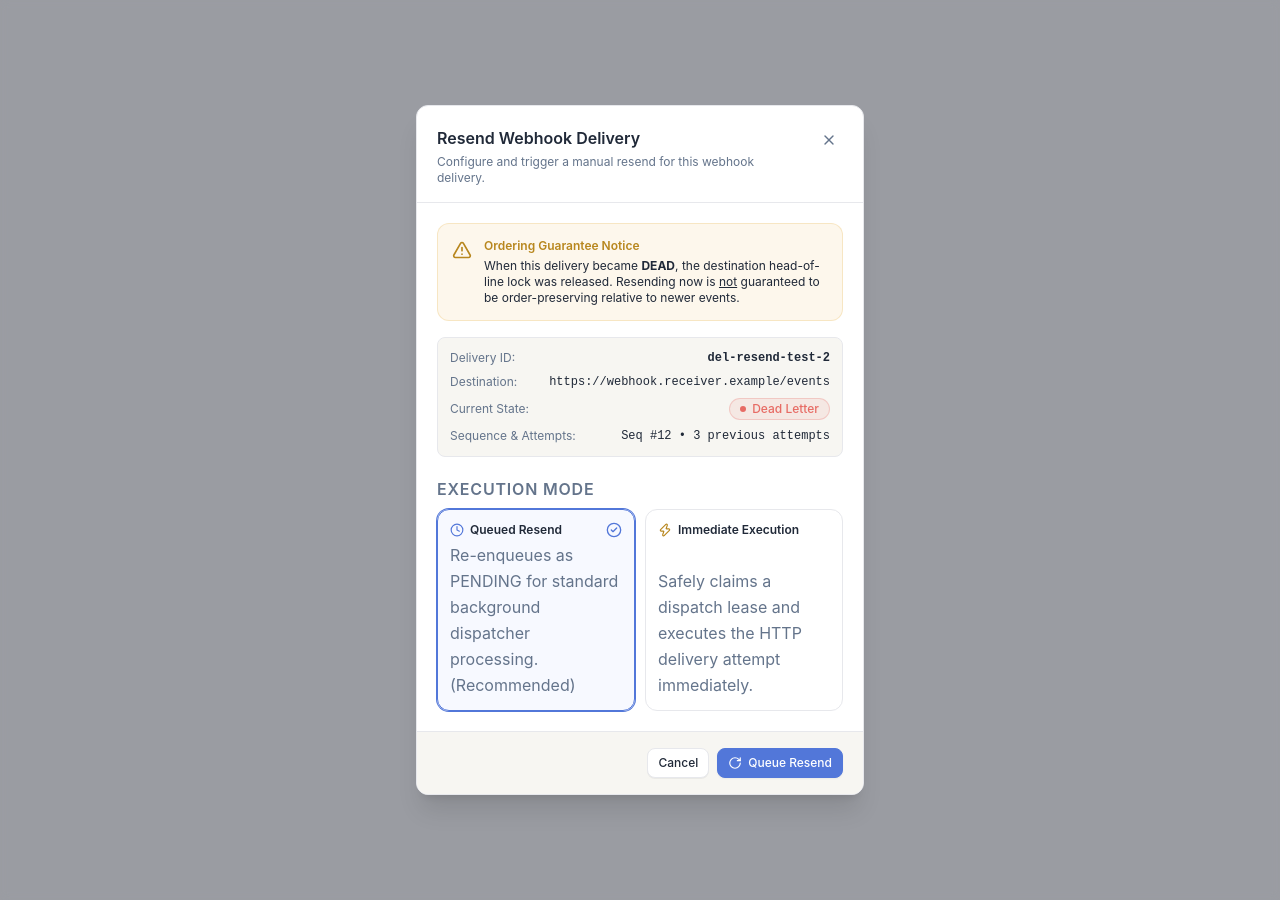
Test case: Tanvi's Phase 2 Task: Delivery Inspector & Resend Flow (Frontend) › 3. ResendModal: State Notices & Execution Modes › submits immediate resend with immediate: true
Click the button with test id "resend-mode-immediate" at [744, 610], box [645, 509, 843, 711]
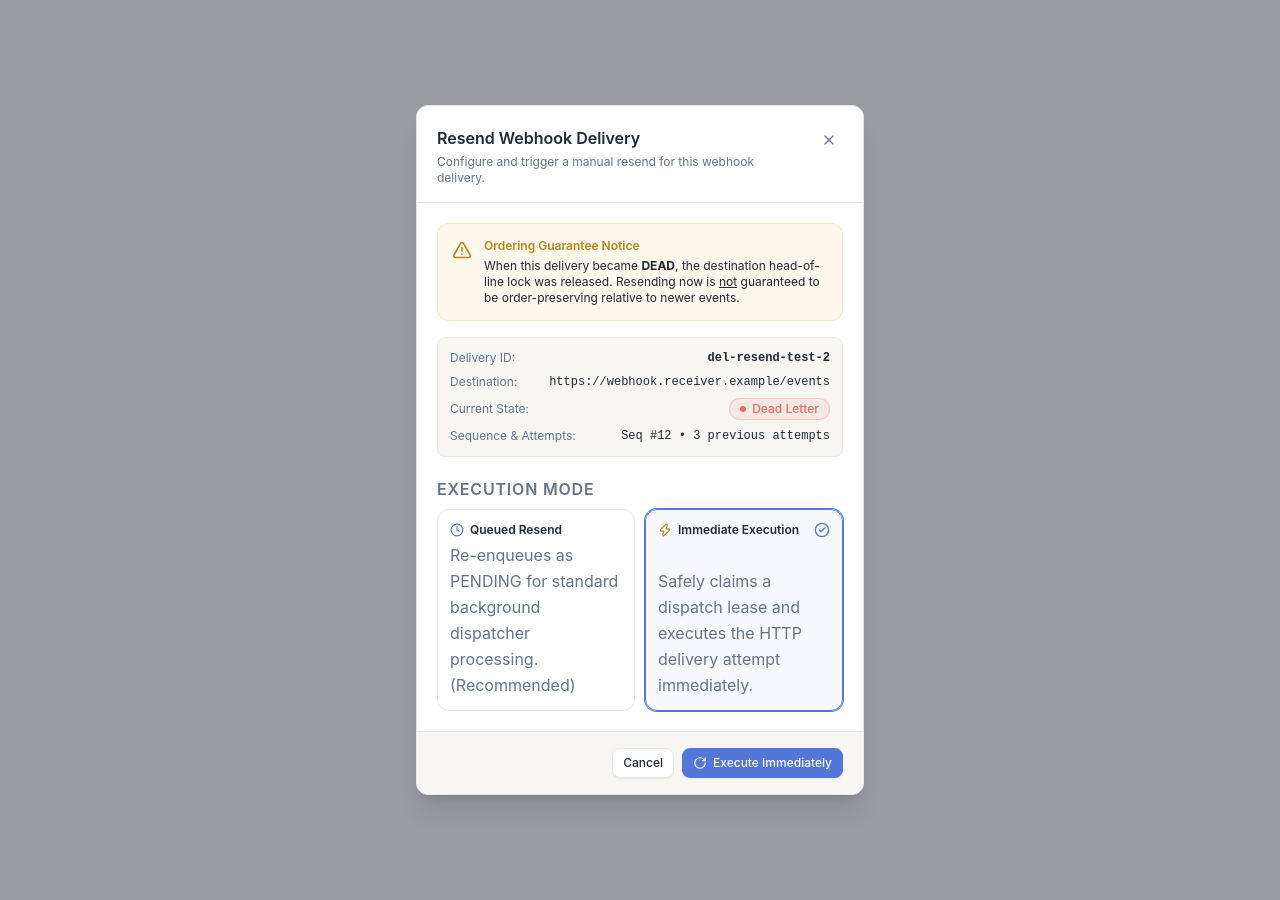
Click the button "Execute Immediately" at [762, 763], box [682, 748, 843, 778]
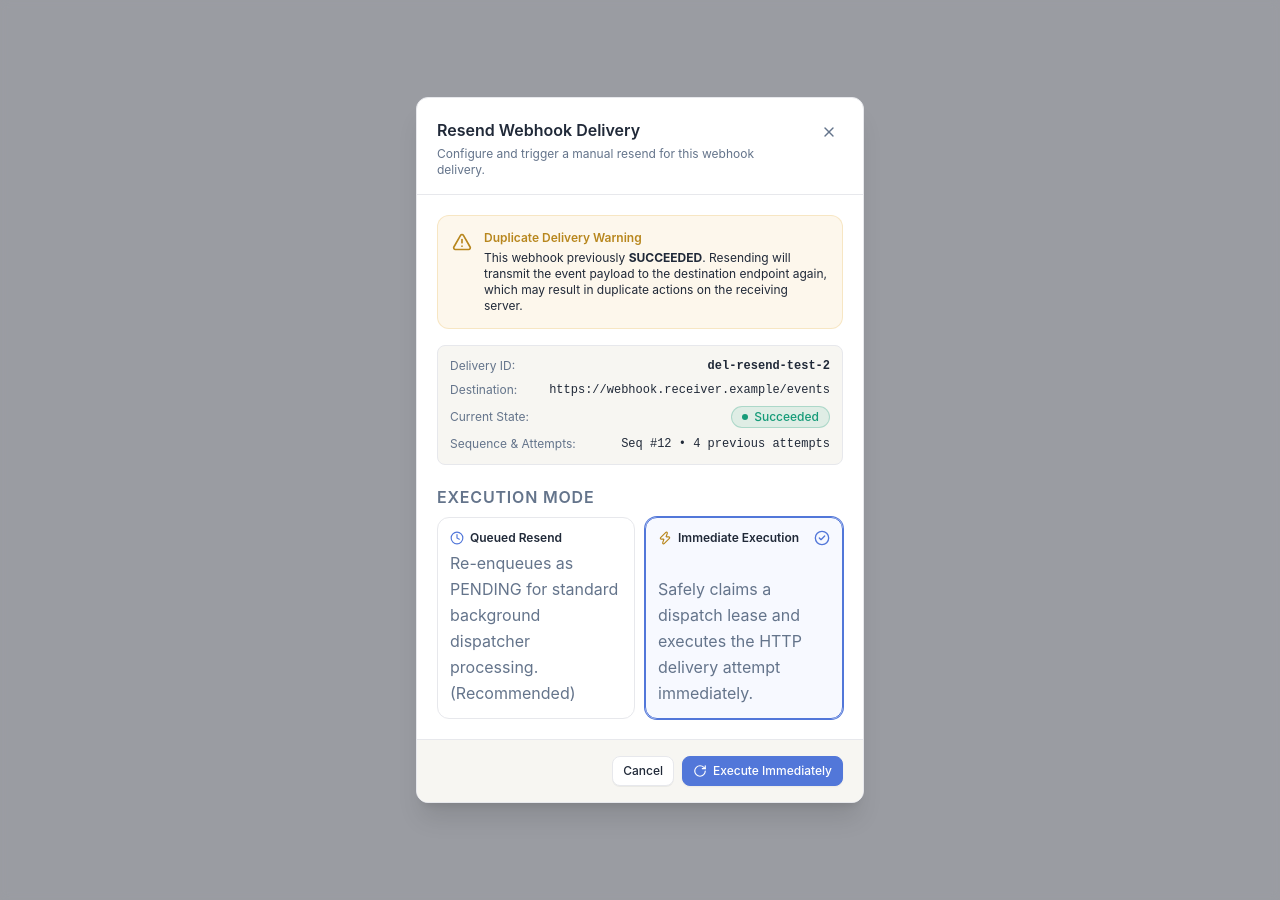
Check: the text "SUCCEEDED" is shown, box [629, 250, 702, 265]
